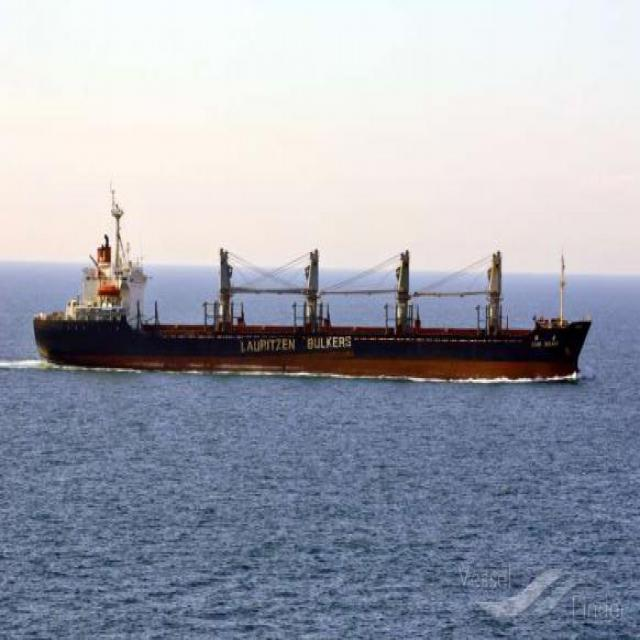OCR: (234, 336, 354, 364)
